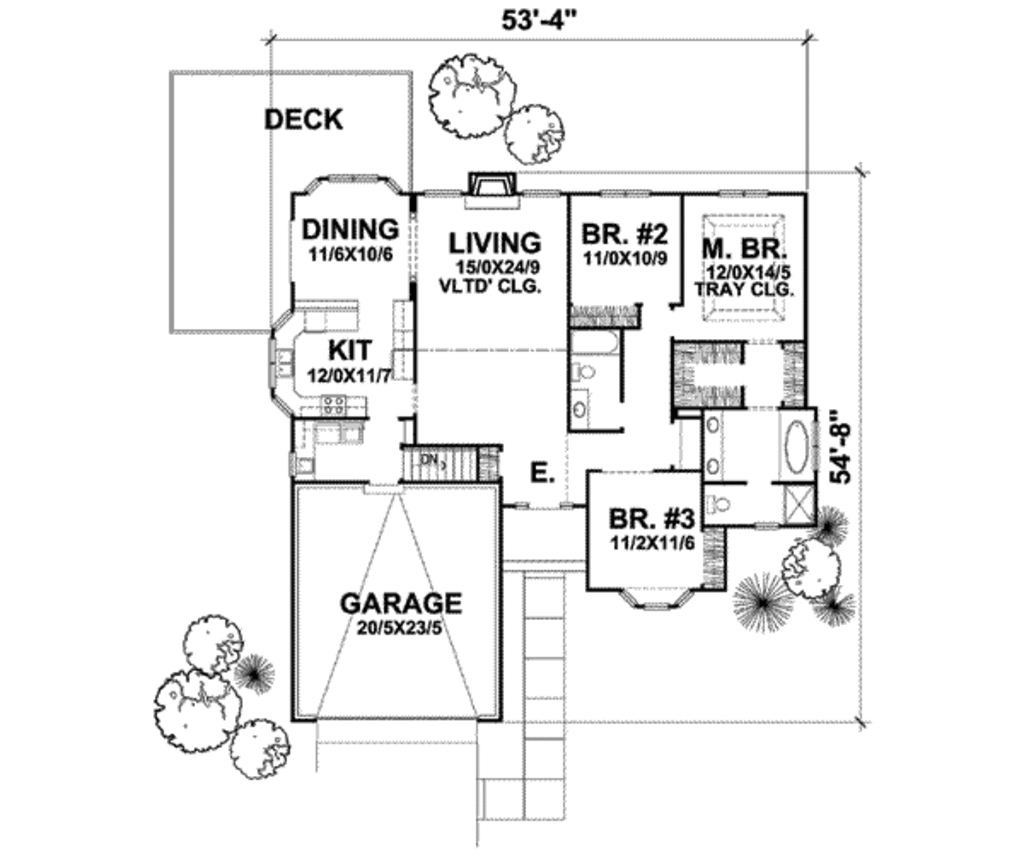large_sink: (705, 486, 732, 521), (568, 354, 597, 384)
small_sink: (701, 410, 724, 481), (568, 388, 594, 434)
stairs: (393, 441, 497, 481)
tub: (777, 404, 821, 485), (571, 326, 624, 359)
twin_sink: (268, 342, 296, 381)
windows: (614, 587, 690, 610), (318, 171, 381, 186), (710, 186, 768, 199), (597, 189, 653, 200)
